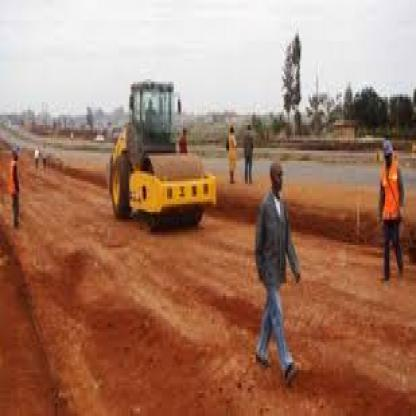car: (96, 60, 222, 256)
